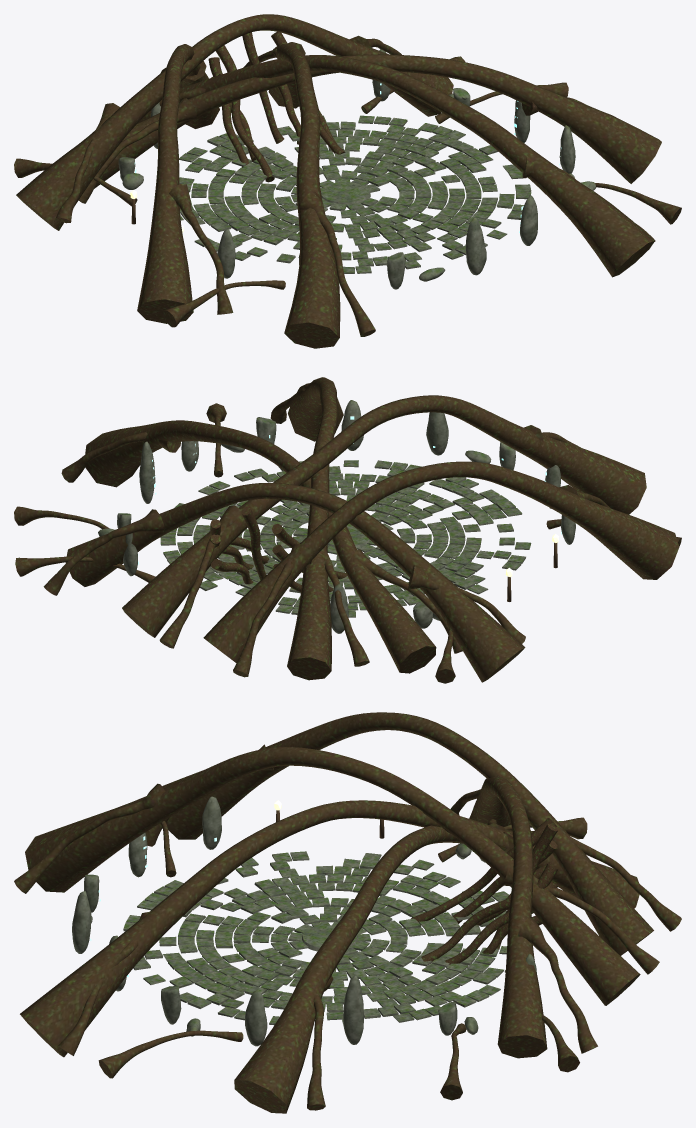
The model's file is warden-hollow.glb.
3 renders of one model, top to bottom at view 1: azimuth 30°, elevation 25°; view 2: azimuth 150°, elevation 25°; view 3: azimuth 270°, elevation 25°, orthographic. The views are drawn at different scales.
Visible parts, largest first — view 1: Roots, Stones, GateRoots; view 2: Roots, Stones, GateRoots; view 3: Roots, Stones, GateRoots.
Boxes of the visible parts, x1,y1,x2,y2 form: Roots: (14,14,681,348); Stones: (118,49,595,289); GateRoots: (208,32,345,182); Roots: (14,377,681,683); Stones: (98,400,575,633); GateRoots: (210,507,347,592); Roots: (14,712,681,1113); Stones: (72,796,536,1046); GateRoots: (411,818,557,967).
Bounding box in the file's own units: 58.05 × 17.99 × 53.97.
6 materials, 3 textured.
